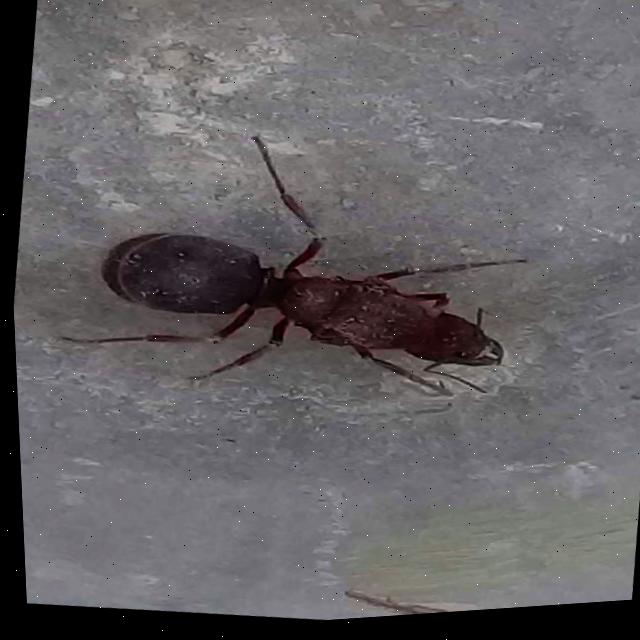Alive-Female-Dealate: (44, 100, 544, 432)
